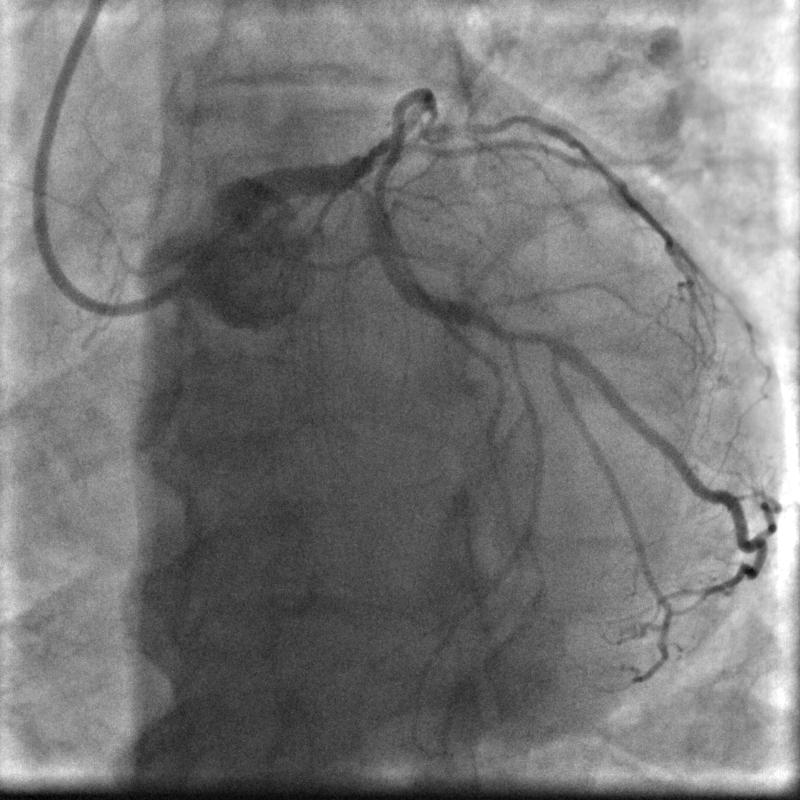Stenosis: (504, 326, 555, 347)
